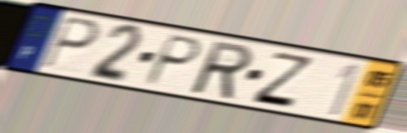1: (327, 61, 363, 119)
2: (86, 22, 143, 85)
P: (141, 32, 206, 88), (39, 14, 101, 71)
R: (190, 38, 255, 102)
Z: (249, 50, 316, 110)
